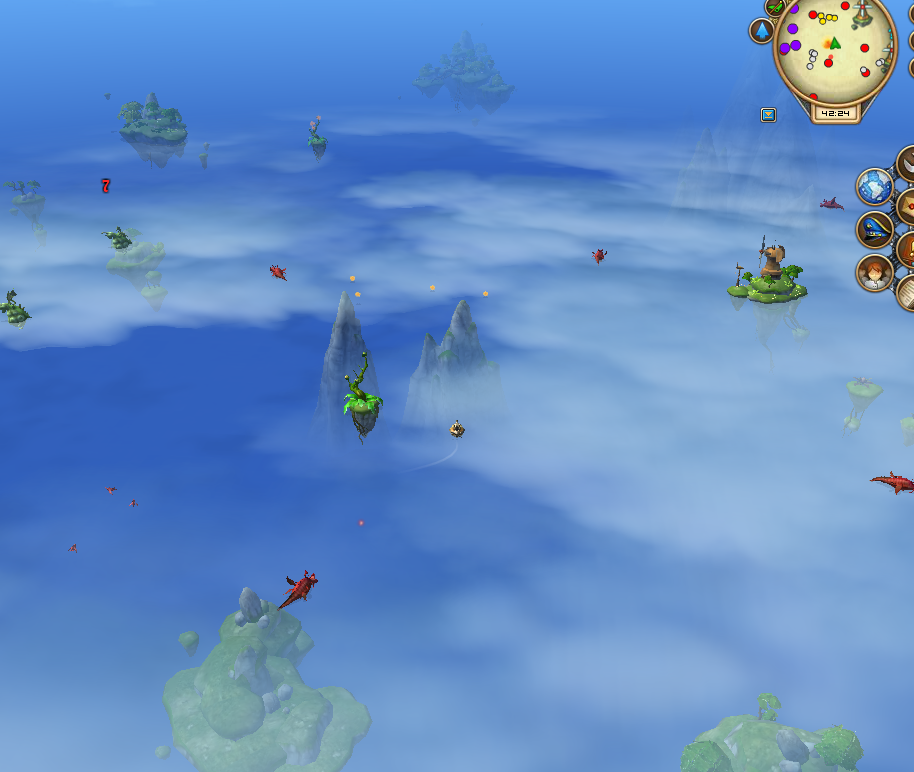dandelion-empty: (338, 350, 384, 434)
dandelion-full: (303, 110, 330, 159)
fluff: (426, 282, 437, 292), (347, 273, 357, 284), (480, 288, 490, 298), (353, 289, 362, 299)
